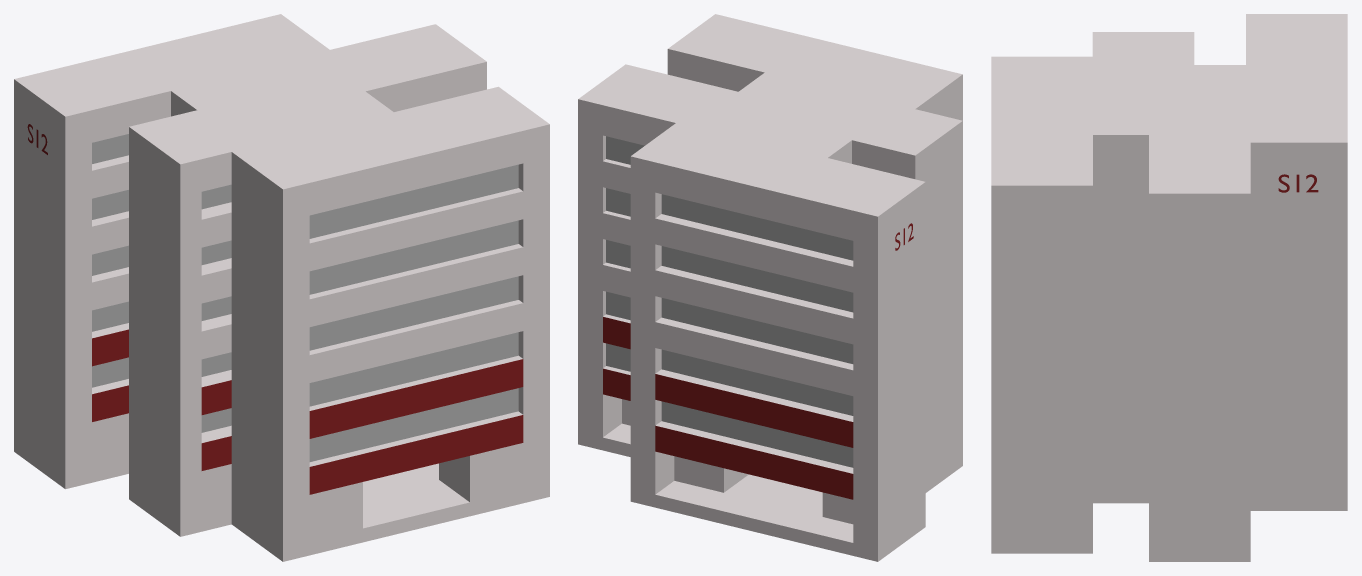
3 views of the same model, side by side, from view 1: azimuth 30°, elevation 25°; view 2: azimuth 150°, elevation 25°; view 3: azimuth 270°, elevation 25° (orthographic). The views are drawn at different scales.
Parts seen in each view (by area): view 1: Cube.005, Cube.001, Cube.004, Cube.006, Cube.003, Cube.007, Cube.013, Cube.002, Cube.014, Cube.015, Cube.016; view 2: Cube.001, Cube.003, Cube.004, Cube.005, Cube.021, Cube.017, Cube.019, Cube.020, Cube.018, Cube.009; view 3: Cube.005, Cube.003, Cube.001, Cube.004.
Part boxes in pixels (x1,y1,x2,y2): Cube.005: (231, 86, 549, 561); Cube.001: (14, 14, 329, 489); Cube.004: (129, 82, 393, 536); Cube.006: (309, 164, 518, 461); Cube.003: (169, 24, 486, 126); Cube.007: (201, 184, 231, 432); Cube.013: (92, 301, 128, 331); Cube.002: (92, 357, 128, 387); Cube.014: (92, 245, 128, 275); Cube.015: (92, 190, 128, 219); Cube.016: (92, 134, 128, 163); Cube.001: (630, 121, 925, 561); Cube.003: (578, 64, 871, 456); Cube.004: (718, 72, 962, 492); Cube.005: (667, 14, 962, 120); Cube.021: (661, 194, 853, 260); Cube.017: (661, 401, 853, 467); Cube.019: (661, 298, 853, 363); Cube.020: (661, 246, 853, 312); Cube.018: (661, 349, 853, 415); Cube.009: (606, 136, 644, 371); Cube.005: (991, 56, 1092, 553); Cube.003: (1149, 65, 1250, 561); Cube.001: (1246, 14, 1347, 510); Cube.004: (1092, 32, 1194, 503).
Bounding box in the file's own units: 42.14 × 40 × 35.08.
